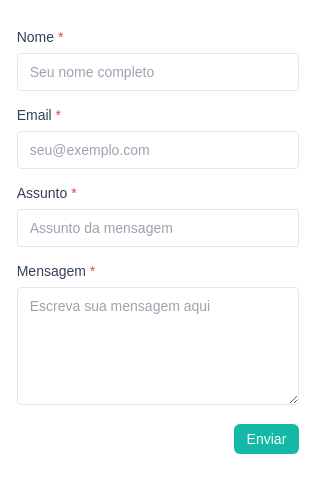
Scenario: ContactForm › exibe erro ao falhar envio
Type "João Silva" into the field labelled "Nome *" at [158, 72], box [17,52,299,90]
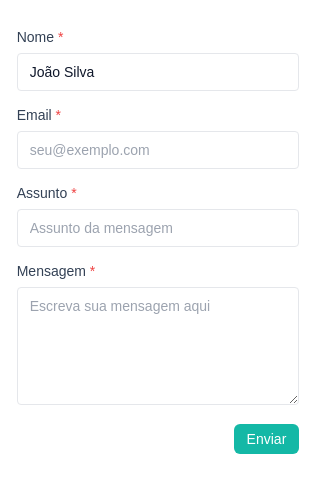
Type "joao@example.com" into the field labelled "Email *" at [158, 150], box [17,130,299,168]
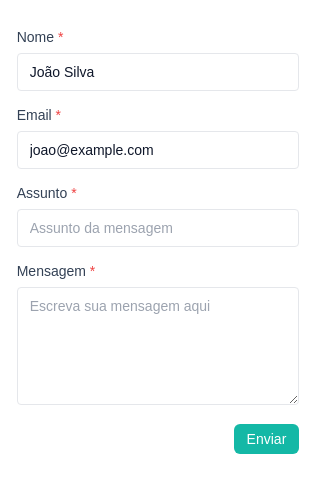
Type "Teste" into the field labelled "Assunto *" at [158, 228], box [17,208,299,246]
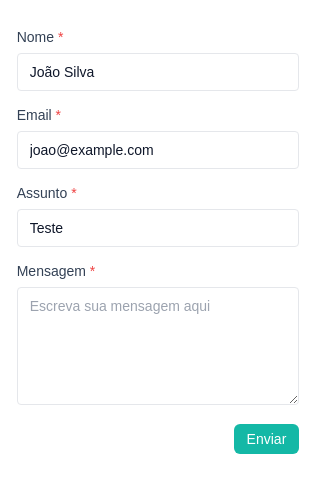
Type "Mensagem de teste" into the text box labelled "Mensagem *" at [158, 346], box [17,286,299,404]
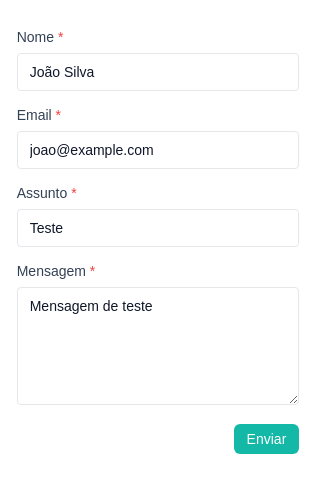
Click the button "Enviar" at [266, 438], box [234,424,299,454]
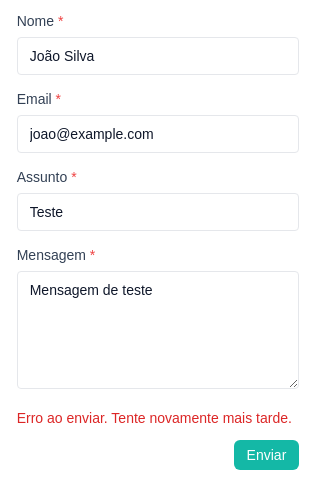
Expected: the text "Erro ao enviar. Tente novamente mais tarde." is shown, [17,408,299,428]
